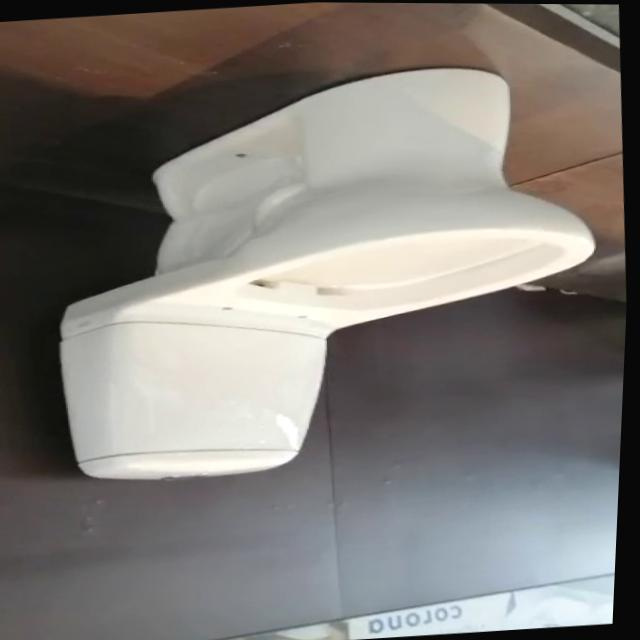toilet: (39, 54, 620, 491)
